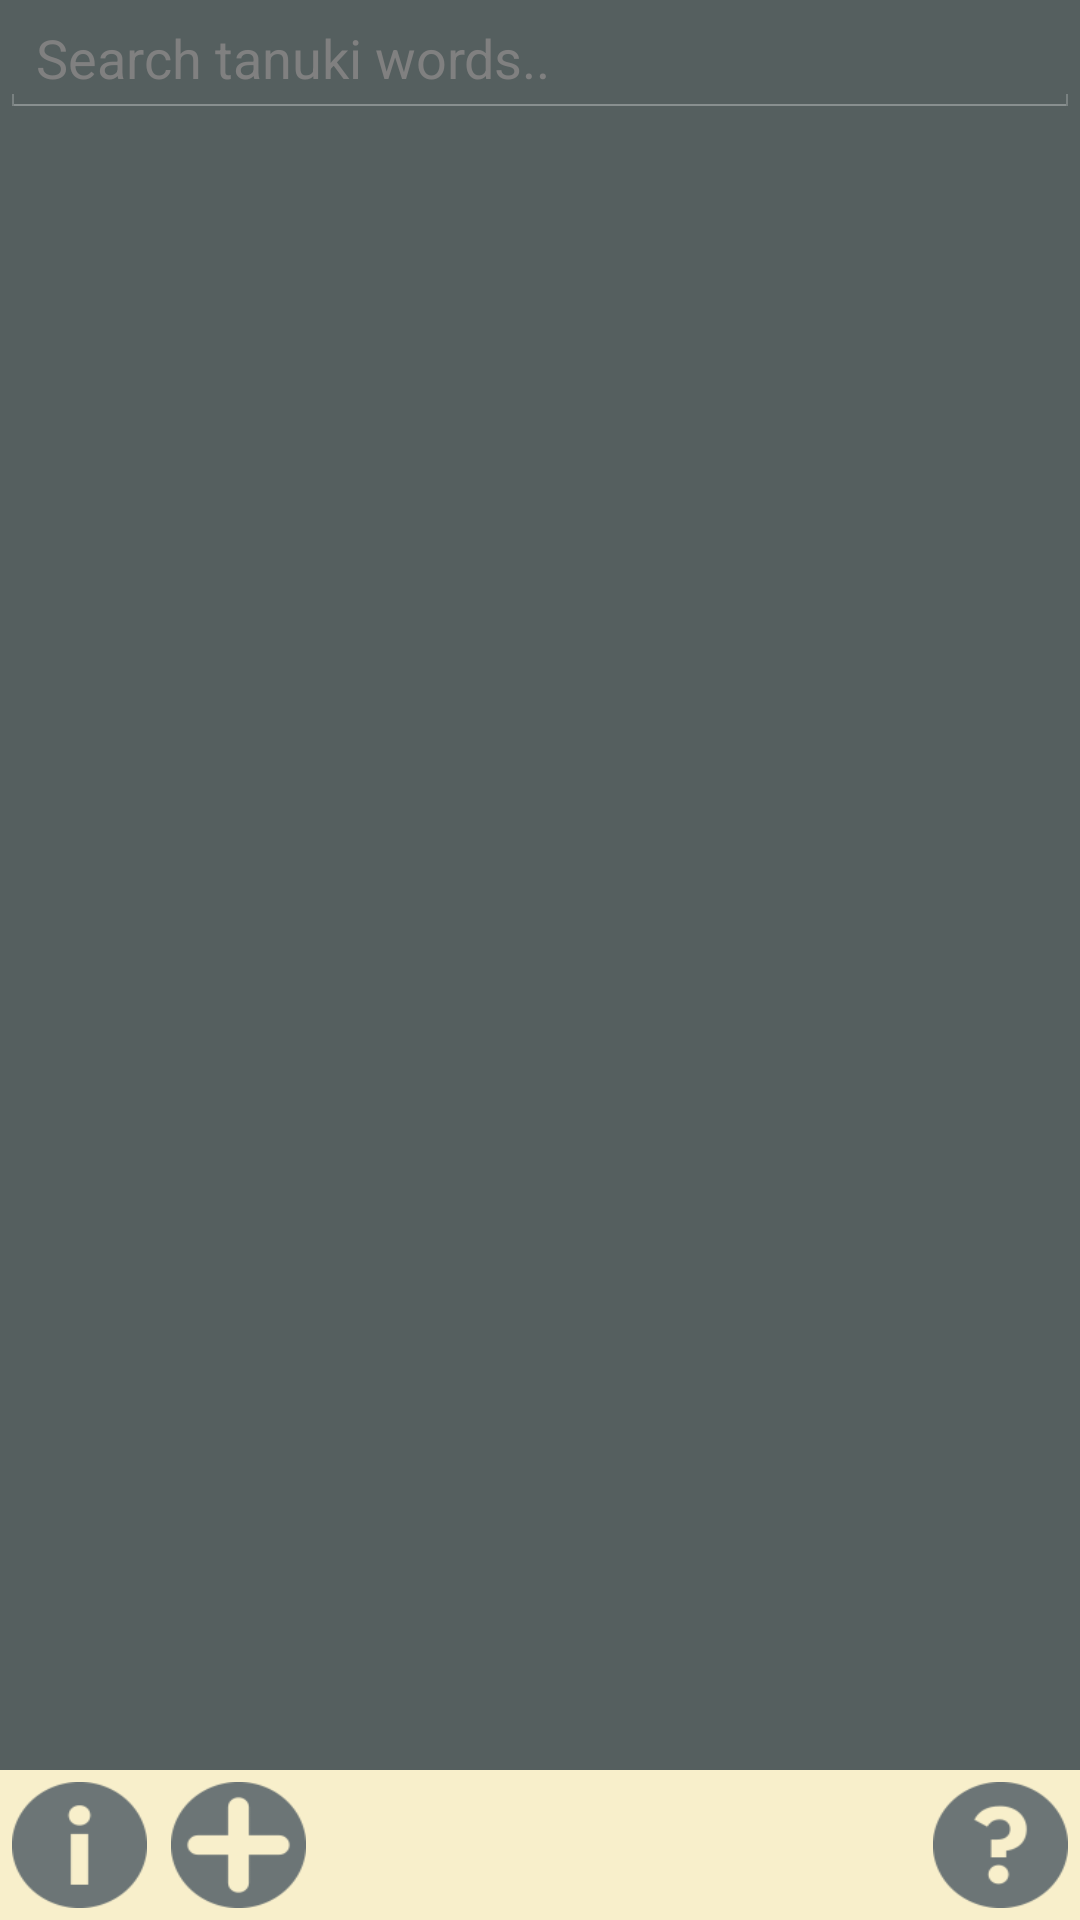

Icons on this 1080×1920 Android screen, each with its box as [x1=x1, y1=y1, x2=x2, y2=y2]:
aboutbutton: [x1=12, y1=1782, x2=147, y2=1908]
tutorialbutton: [x1=933, y1=1782, x2=1068, y2=1908]
